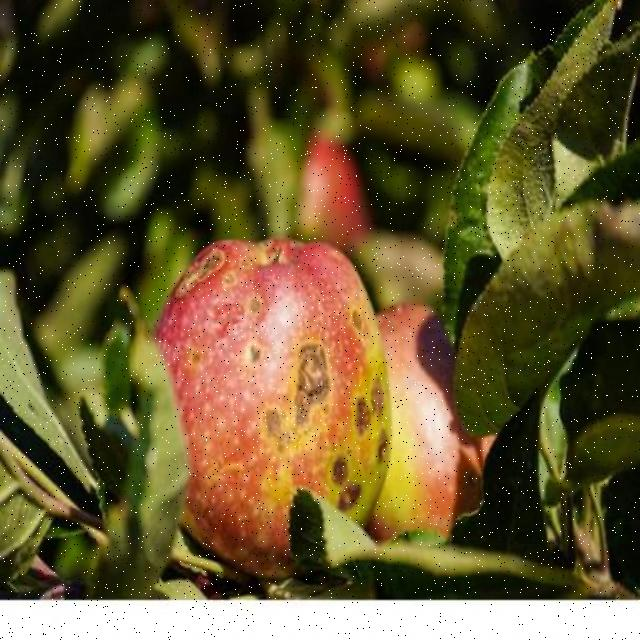SCAB: (146, 197, 412, 566)
